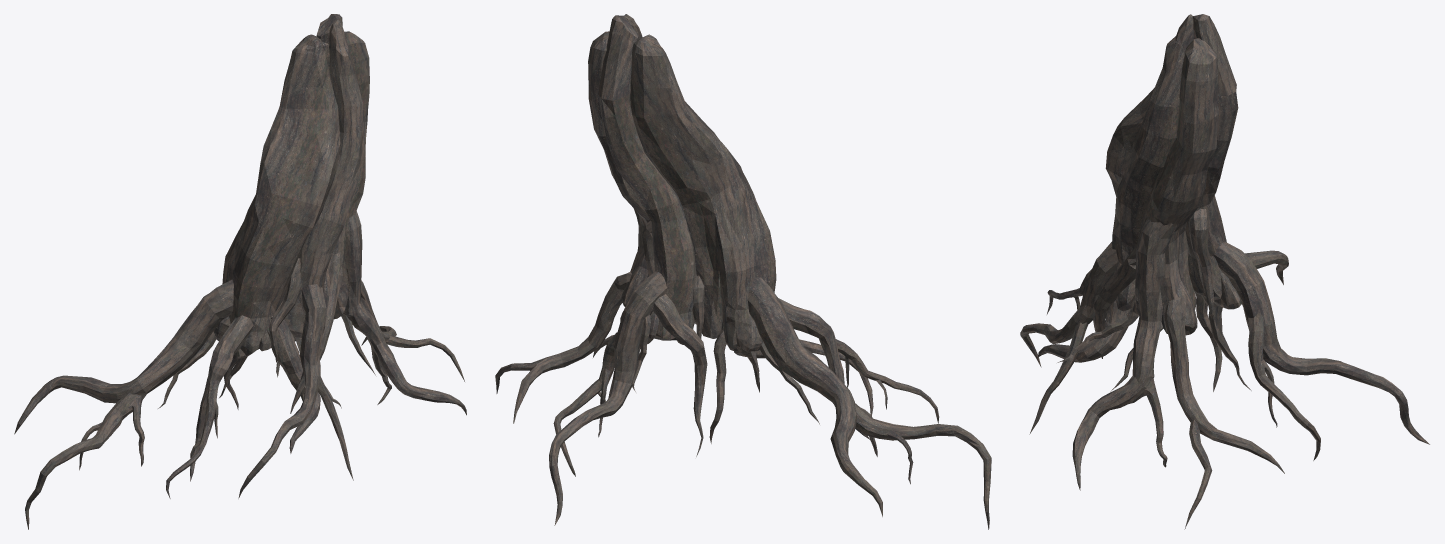
Rendered from House69.fbx.
The picture shows the model from 3 angles, left to right: view 1: azimuth 30°, elevation 25°; view 2: azimuth 150°, elevation 25°; view 3: azimuth 270°, elevation 25°; orthographic projection. The views are drawn at different scales.
Visible parts, largest first — view 1: AT_BGAgo_TrN05_11B.mo; view 2: AT_BGAgo_TrN05_11B.mo; view 3: AT_BGAgo_TrN05_11B.mo.
Boxes of the visible parts, bbox=[...] form: AT_BGAgo_TrN05_11B.mo: bbox=[14, 14, 466, 529]; AT_BGAgo_TrN05_11B.mo: bbox=[495, 14, 991, 529]; AT_BGAgo_TrN05_11B.mo: bbox=[1020, 14, 1429, 529].
Bounding box in the file's own units: 5723 × 5079 × 3955.
